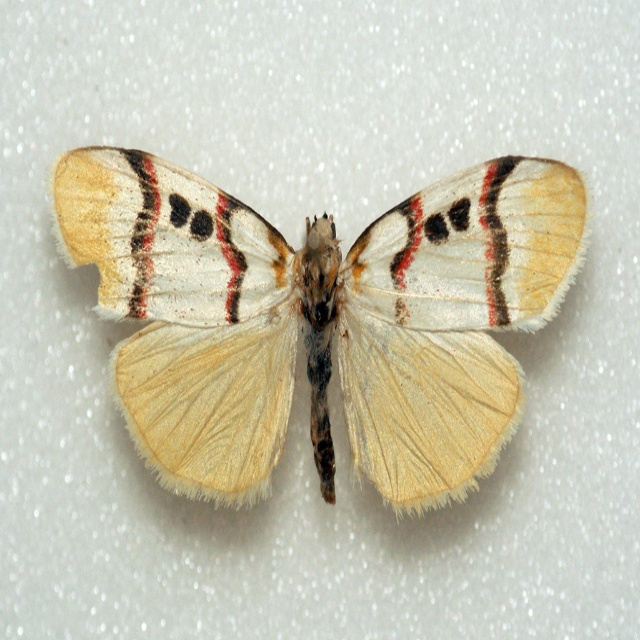Butterfly: (78, 142, 564, 564)
